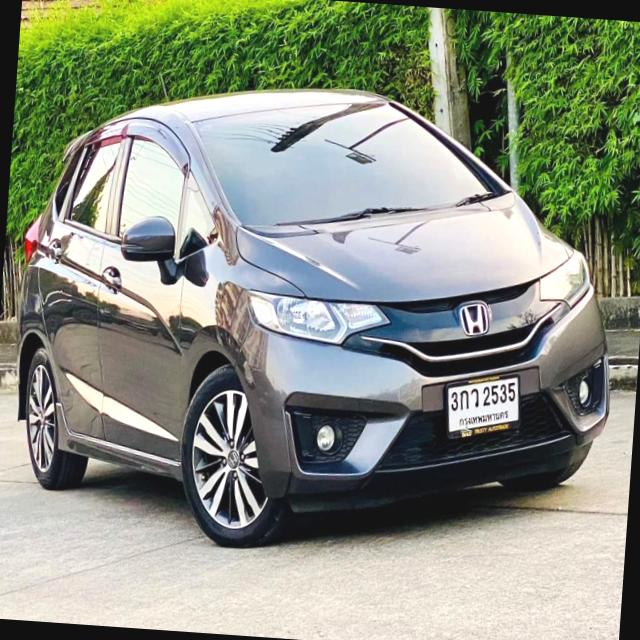license_plate: (440, 366, 526, 446)
